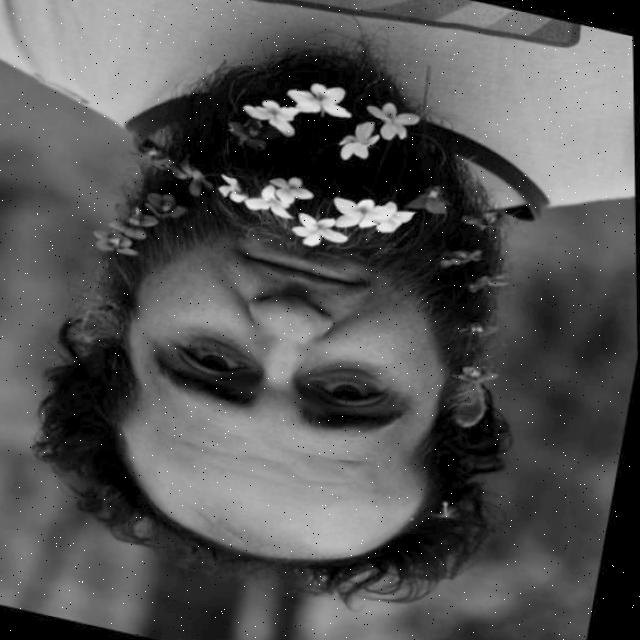puffy_eyes: (186, 330, 261, 366), (308, 361, 389, 389)
